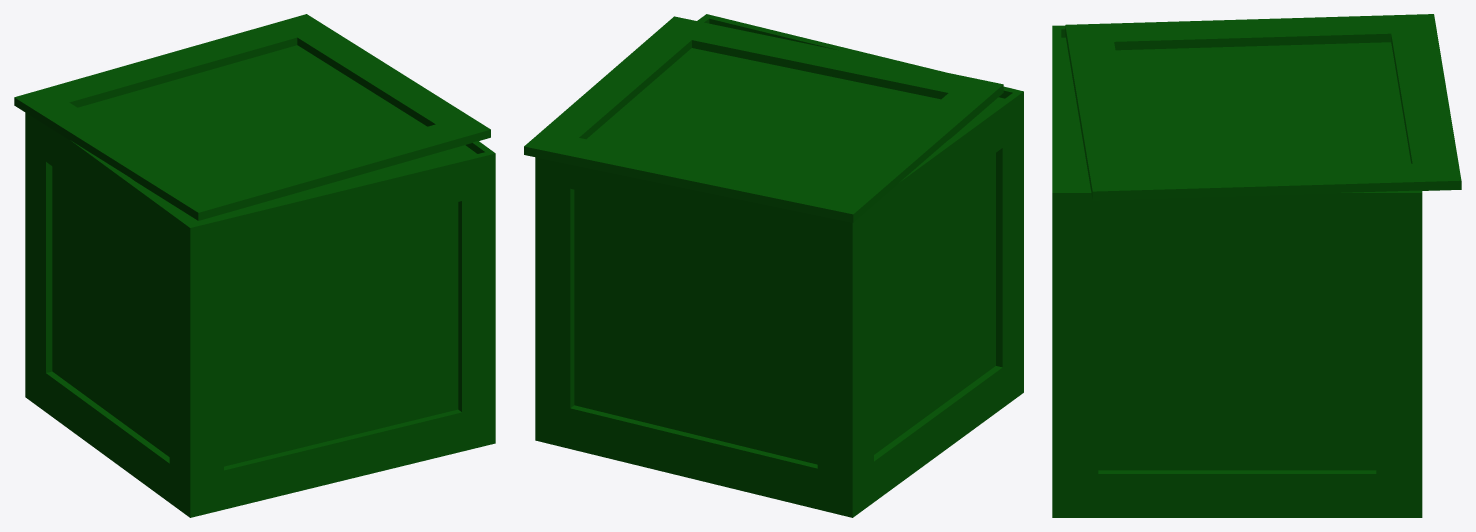
Rendered from crate01.FBX.
The picture shows the model from 3 angles, left to right: view 1: azimuth 30°, elevation 25°; view 2: azimuth 150°, elevation 25°; view 3: azimuth 270°, elevation 25°; orthographic projection. The views are drawn at different scales.
Visible parts, largest first — view 1: SM_crate01_0; view 2: SM_crate01_0; view 3: SM_crate01_0.
Boxes of the visible parts, box(x1,y1,x2,y2) form: SM_crate01_0: box(14, 14, 495, 517); SM_crate01_0: box(524, 14, 1023, 517); SM_crate01_0: box(1052, 14, 1461, 517).
Bounding box in the file's own units: 54.71 × 53.25 × 47.92.
